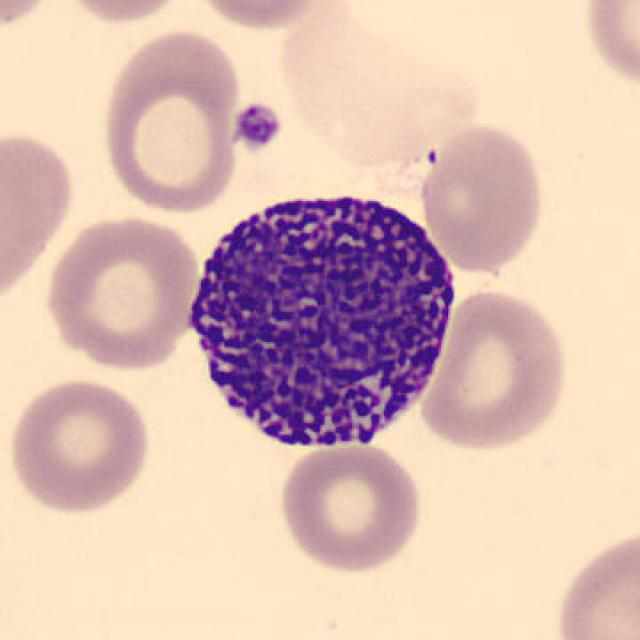Basophil: (172, 170, 466, 466)
Platelets: (230, 99, 284, 153)
RBC: (272, 0, 455, 166), (96, 25, 245, 217), (416, 285, 572, 455), (41, 210, 203, 372), (4, 374, 154, 516), (274, 439, 425, 577), (414, 120, 548, 275), (0, 123, 78, 307), (549, 523, 638, 640), (578, 0, 640, 93), (184, 0, 332, 33), (55, 0, 193, 26), (0, 0, 62, 37)
